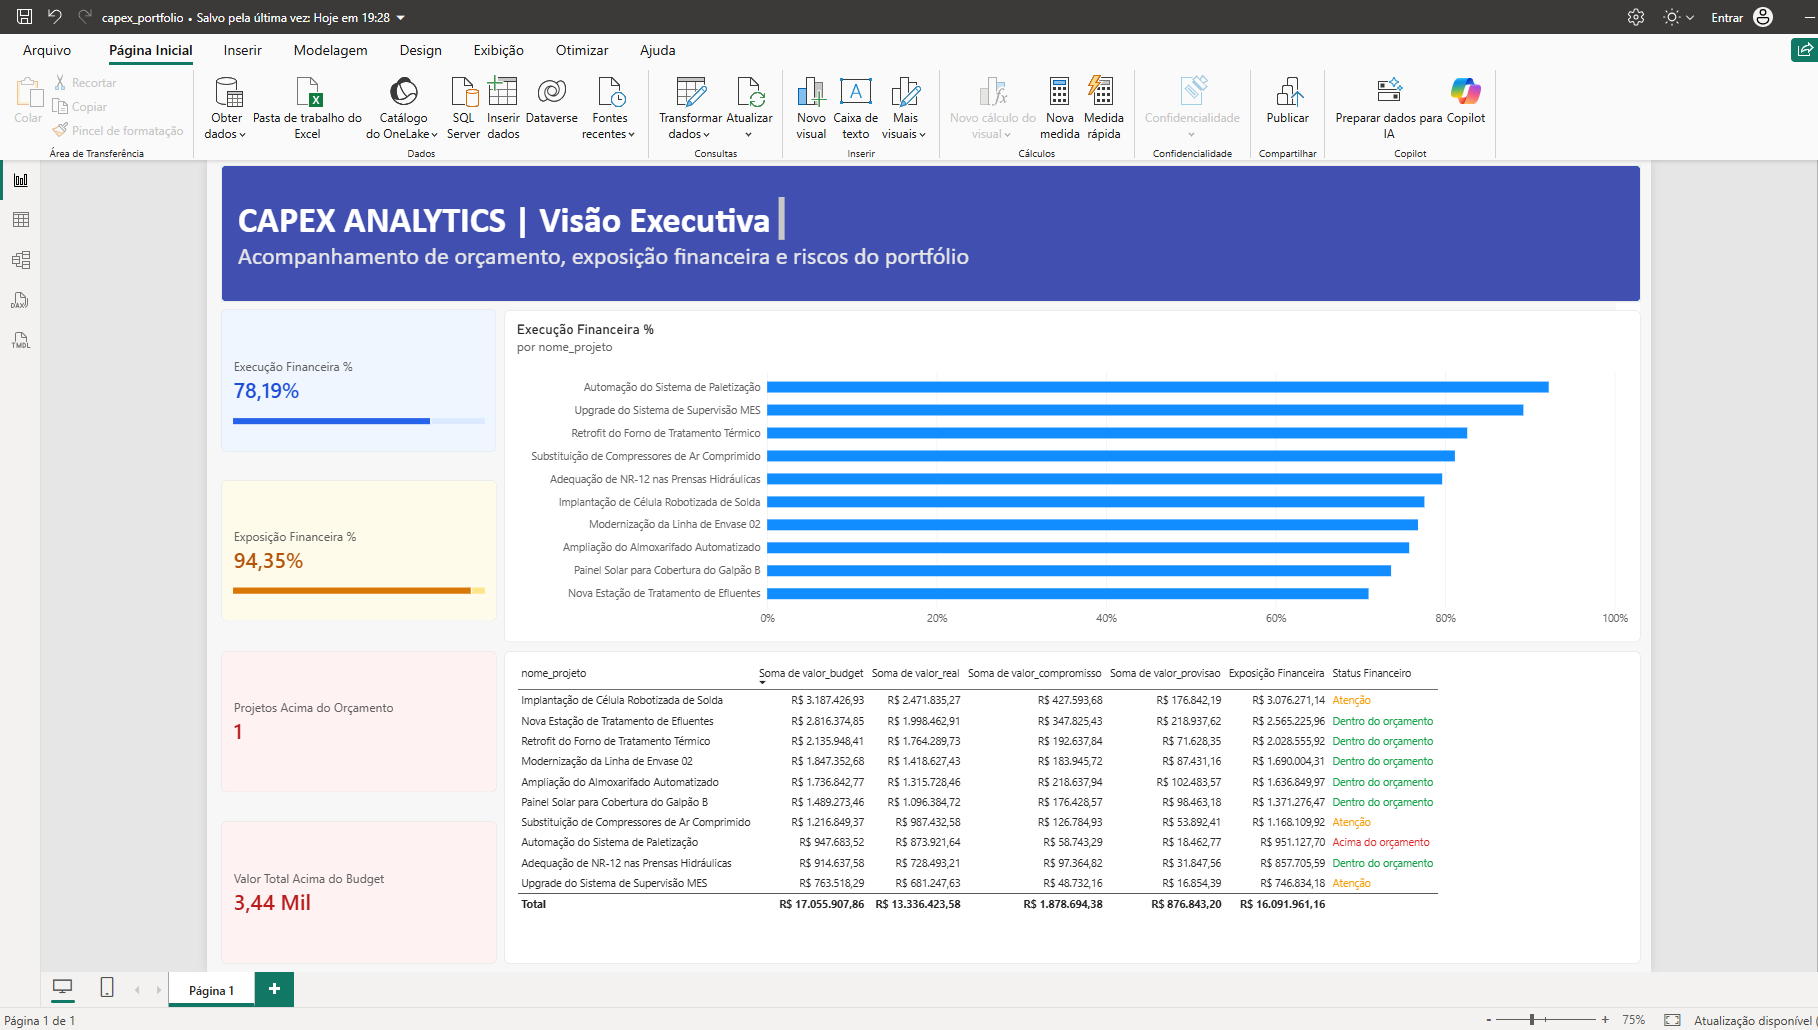

The page's visual inventory and layout, read from the dashboard file:
{"tool":"powerbi","page":{"name":"Página 1","canvas":[1920,1080],"ordinal":0},"visuals":[{"type":"shape","box":[27.7,7.3,1892.3,180.9],"z":0},{"type":"cardVisual","fields":{"Data":["tb_financeiro.Execução Financeira %"]},"box":[1111.3,199.4,401.7,215.5],"z":1000},{"type":"cardVisual","fields":{"Data":["tb_financeiro.Exposição Financeira %"]},"box":[1518.3,199.4,401.7,215.5],"z":2000},{"type":"cardVisual","fields":{"Data":["tb_financeiro.Projetos Acima do Orçamento"]},"box":[1111.3,424.2,401.7,215.5],"z":3000},{"type":"cardVisual","fields":{"Data":["tb_financeiro.Valor Total Acima do Budget"]},"box":[1518.3,424.2,401.7,215.5],"z":4000},{"type":"barChart","fields":{"Category":["tb_projetos.nome_projeto"],"Y":["tb_financeiro.Execução Financeira %"]},"box":[27.7,201.3,1084,439.1],"z":5000},{"type":"tableEx","fields":{"Values":["tb_projetos.nome_projeto","Sum(tb_financeiro.valor_budget)","Sum(tb_financeiro.valor_real)","Sum(tb_financeiro.valor_compromisso)","Sum(tb_financeiro.valor_provisao)","tb_financeiro.Exposição Financeira","tb_financeiro.Status Financeiro"]},"box":[27.7,641.9,1892.3,428.9],"z":6000},{"type":"textbox","box":[114.4,50.2,726.2,57.2],"z":7000},{"type":"textbox","box":[41.2,119.7,977.6,90.4],"z":8000},{"type":"barChart","fields":{"Y":["tb_financeiro.Execução Financeira %","tb_financeiro.Execução Restante %"]},"box":[1111.7,318.1,411.7,97.9],"z":9000},{"type":"image","box":[41.2,45.6,59.9,66.5],"z":10000},{"type":"barChart","fields":{"Y":["tb_financeiro.Exposição Financeira %","tb_financeiro.Exposição Restante %"]},"box":[1518.8,319.5,401.2,96.3],"z":10001}]}

Visuals, with their boxes on the page's 1920x1080 design canvas (x1, y1, x2, y2). These are canvas units, not pixel positions in the 1818x1030 screenshot, which may show the page scaled, cropped or inside an application window:
shape: box=[28, 7, 1920, 188]
cardVisual - tb_financeiro.Execução Financeira %: box=[1111, 199, 1513, 415]
cardVisual - tb_financeiro.Exposição Financeira %: box=[1518, 199, 1920, 415]
cardVisual - tb_financeiro.Projetos Acima do Orçamento: box=[1111, 424, 1513, 640]
cardVisual - tb_financeiro.Valor Total Acima do Budget: box=[1518, 424, 1920, 640]
barChart - tb_projetos.nome_projeto x tb_financeiro.Execução Financeira %: box=[28, 201, 1112, 640]
tableEx - tb_projetos.nome_projeto x Sum(tb_financeiro.valor_budget): box=[28, 642, 1920, 1071]
textbox: box=[114, 50, 841, 107]
textbox: box=[41, 120, 1019, 210]
barChart - tb_financeiro.Execução Financeira % x tb_financeiro.Execução Restante %: box=[1112, 318, 1523, 416]
image: box=[41, 46, 101, 112]
barChart - tb_financeiro.Exposição Financeira % x tb_financeiro.Exposição Restante %: box=[1519, 320, 1920, 416]
